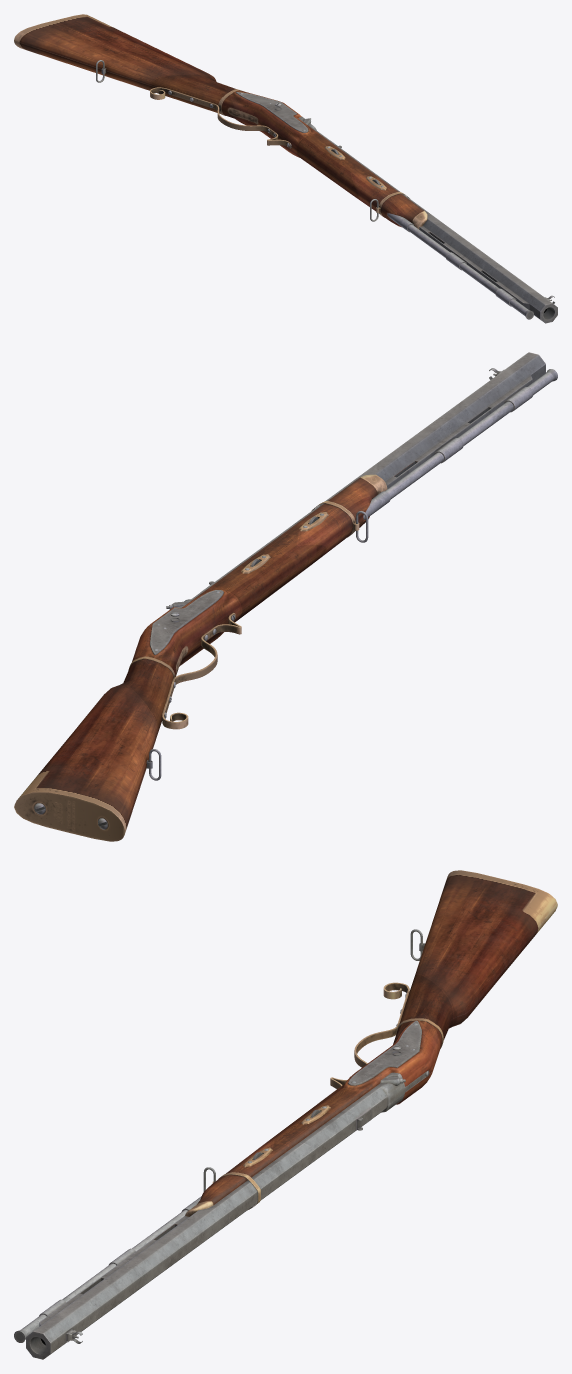
Rendered from SM_McKennan_01f.fbx.
3 views of the same model, one above another, from view 1: azimuth 30°, elevation 25°; view 2: azimuth 150°, elevation 25°; view 3: azimuth 330°, elevation 25° (orthographic). The views are drawn at different scales.
Parts seen in each view (by area): view 1: SM_McKennan_01f_LOD0; view 2: SM_McKennan_01f_LOD0; view 3: SM_McKennan_01f_LOD0.
Boxes of the visible parts, <box> form: SM_McKennan_01f_LOD0: <box>14,14,557,323</box>; SM_McKennan_01f_LOD0: <box>14,352,557,841</box>; SM_McKennan_01f_LOD0: <box>14,870,557,1359</box>.
Size of the model in its own units: 23.06 by 118 by 5.23.
